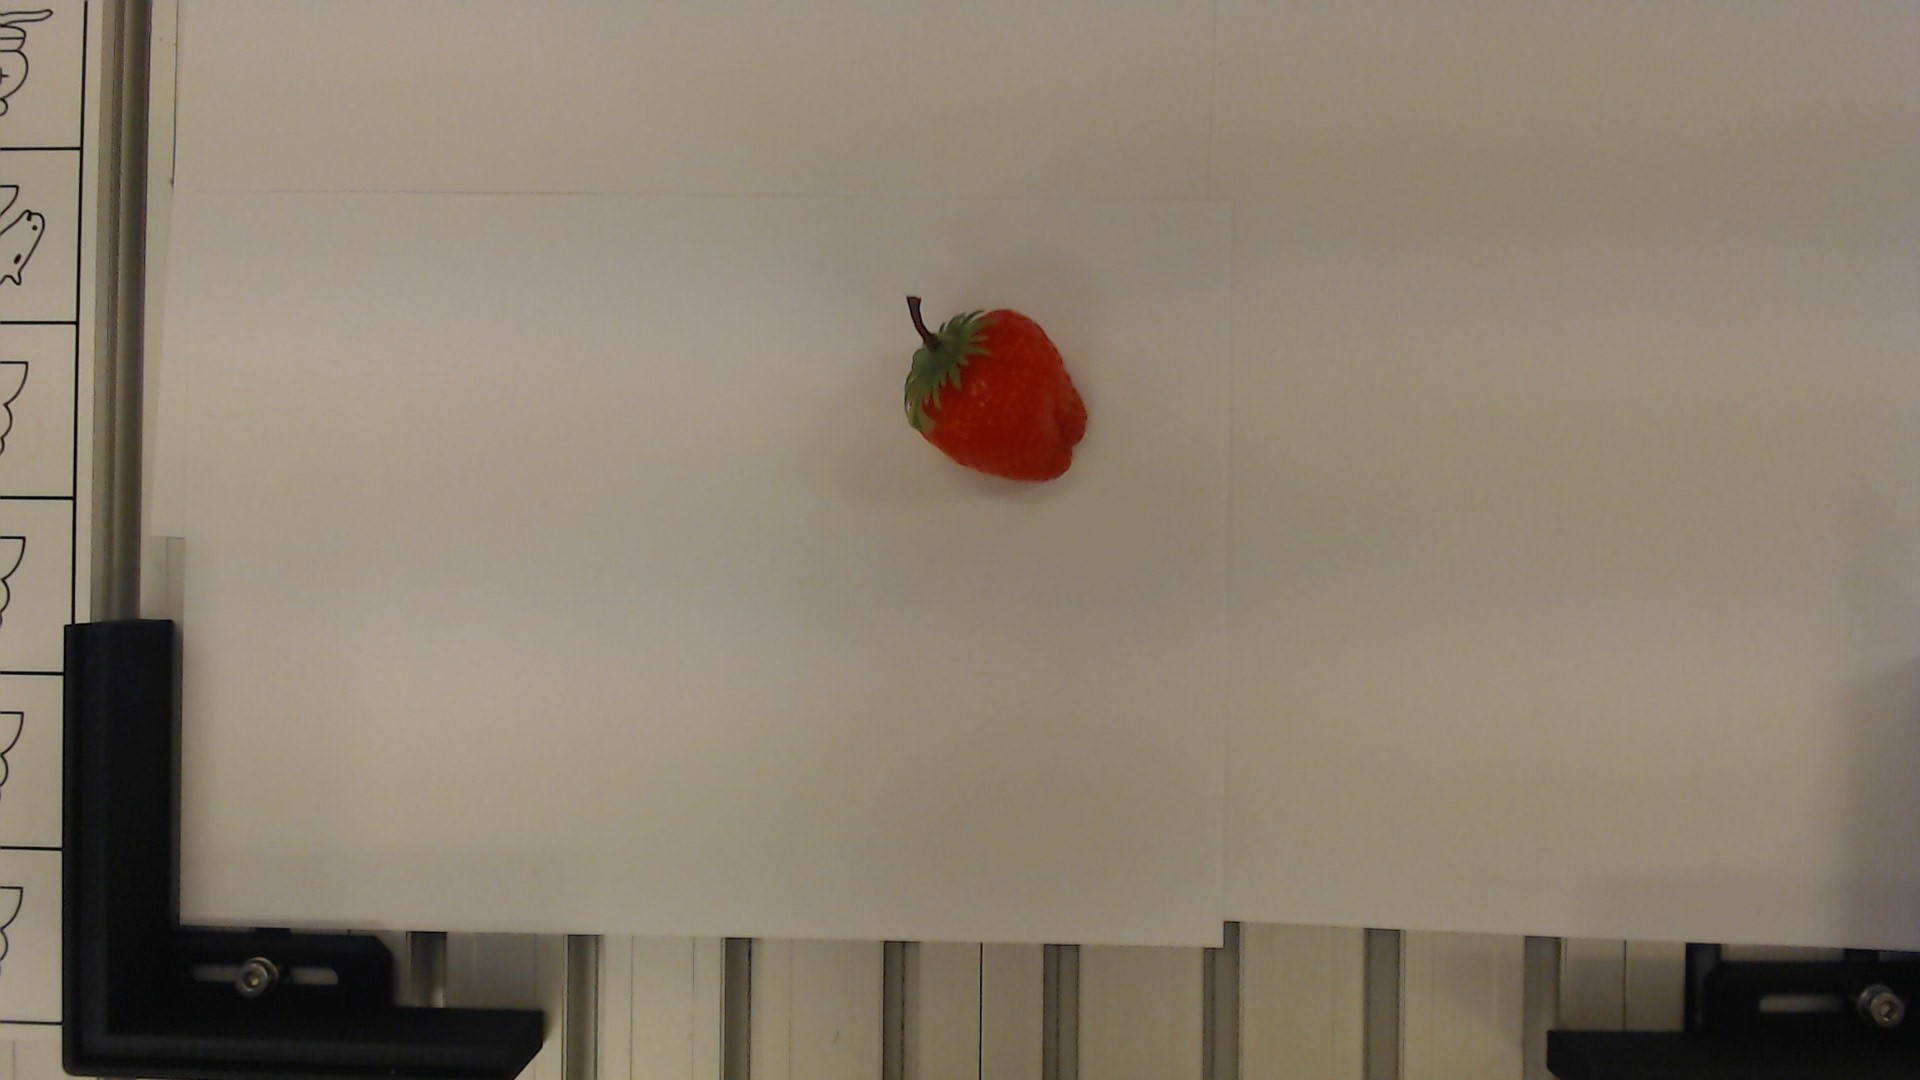Strawberry: (886, 291, 1095, 491)
